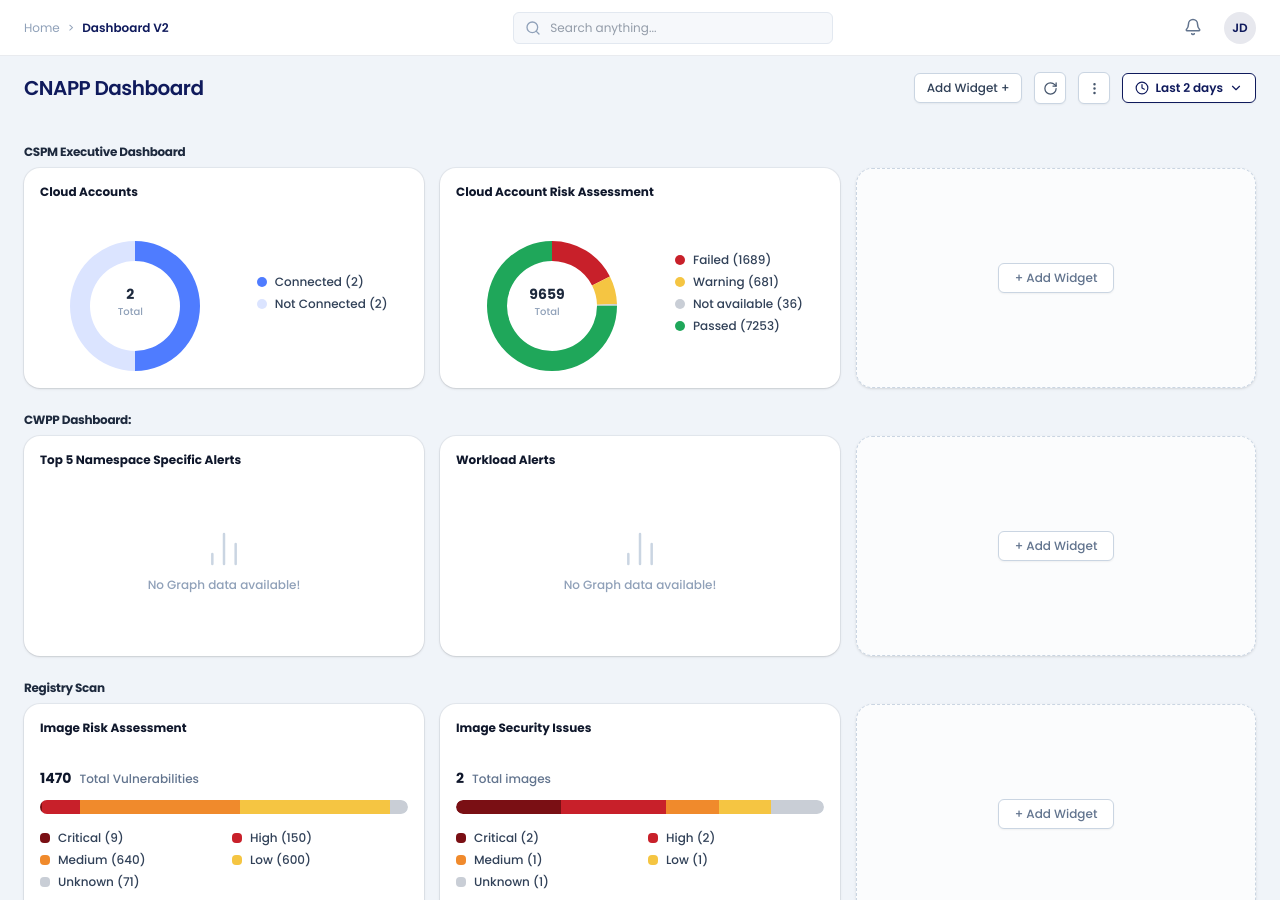
Drawer Search (Phase 8a) › unchecking from results then Confirm hides that widget on the dashboard
The width and height of the screenshot is (1280, 900).
Click the button "Add Widget +" at (968, 88), box [914,73,1022,103]
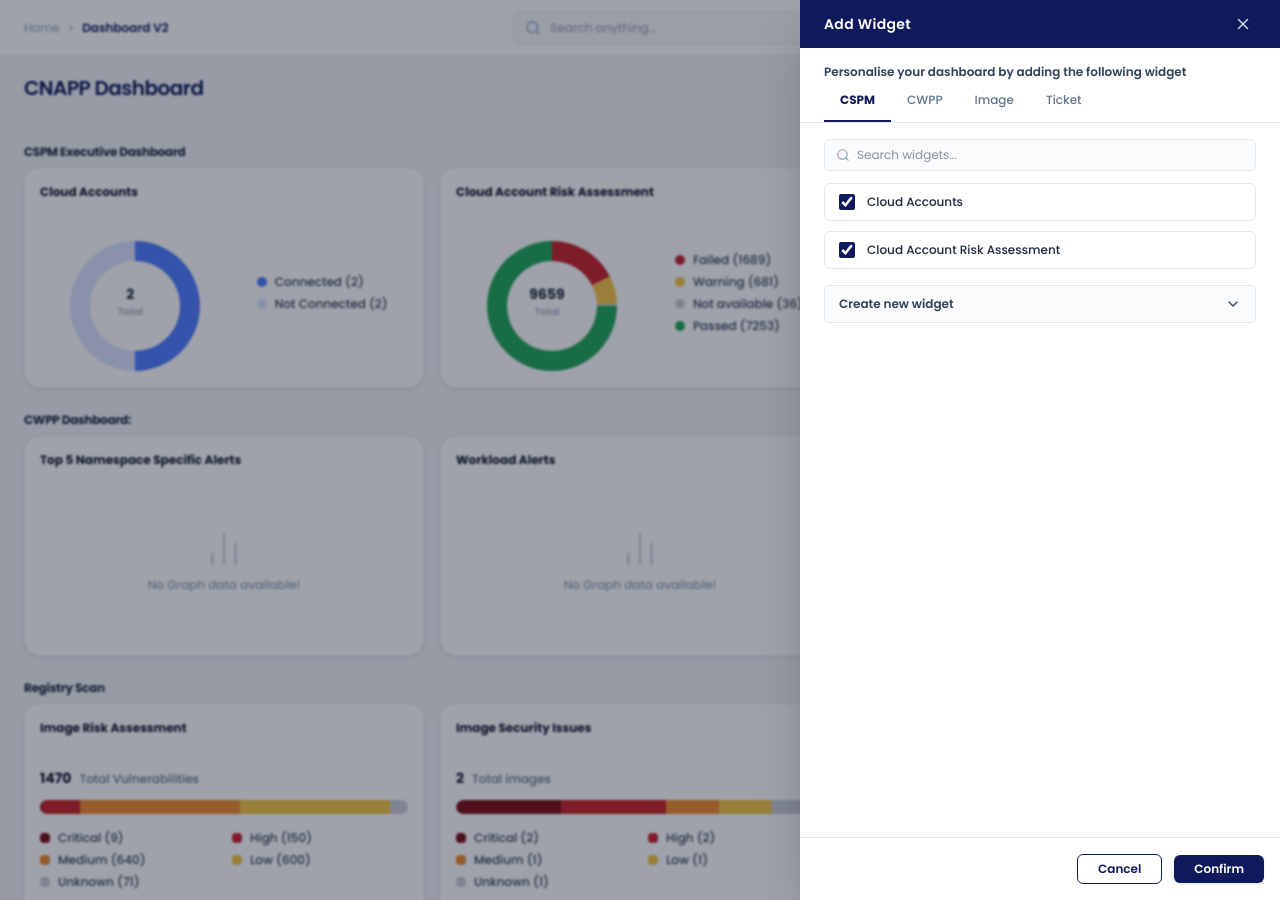
Type "Accounts" into the search field labelled "Search widgets" at (1040, 155), box [824,139,1256,171]
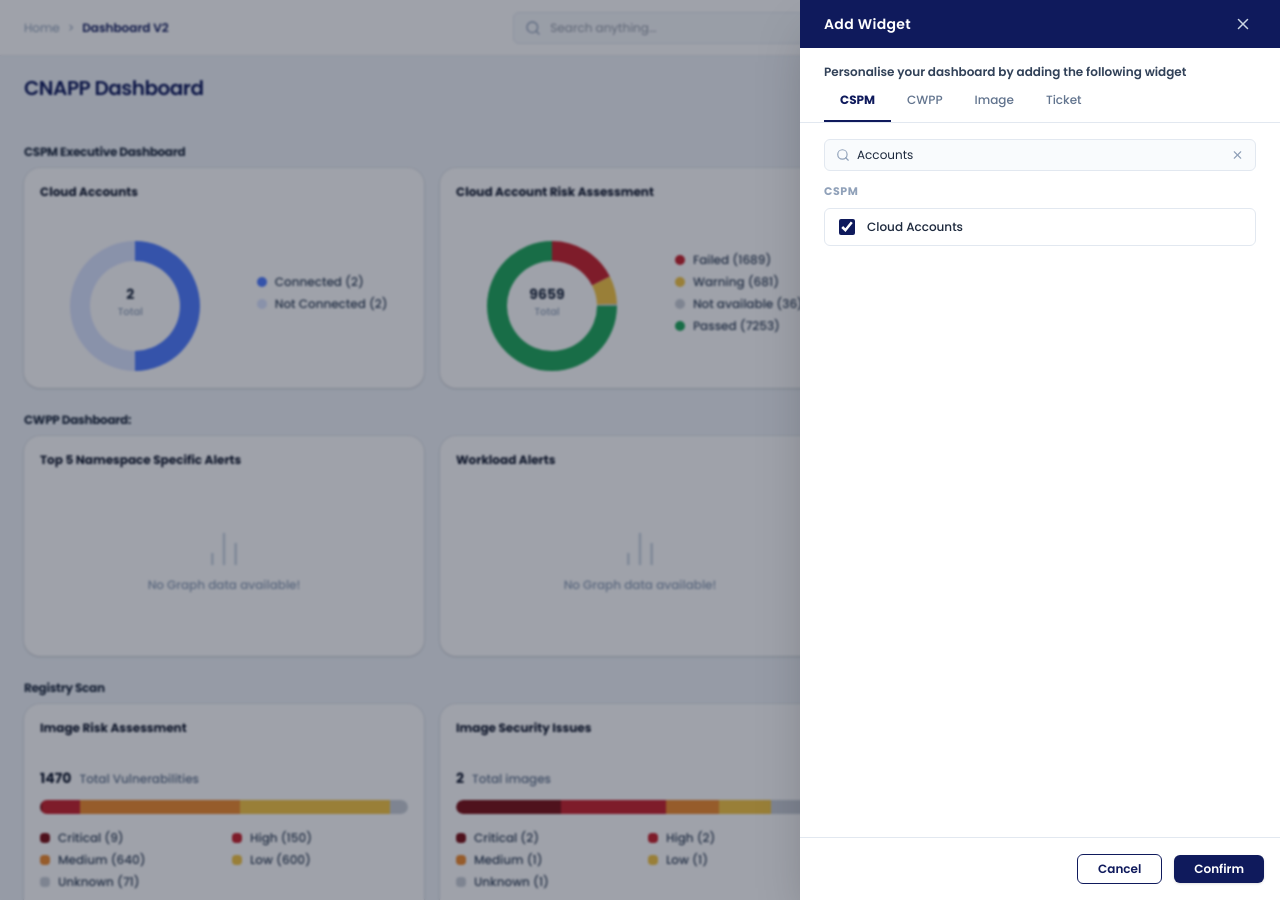
Expected: the checkbox labelled "Cloud Accounts" is checked
Click the checkbox labelled "Cloud Accounts" at (847, 226), box [839,218,855,234]
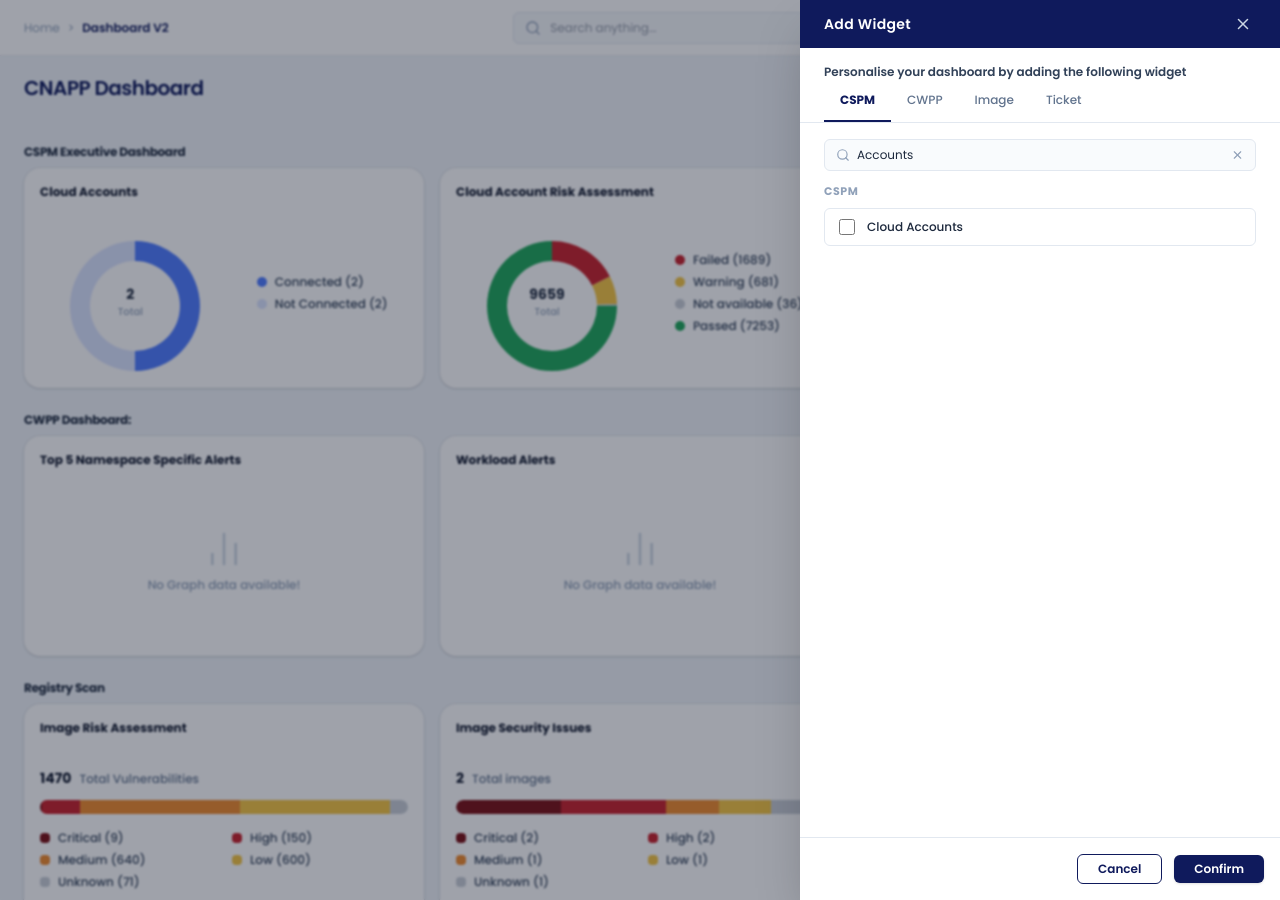
Expected: the checkbox labelled "Cloud Accounts" is not checked, [839,218,855,234]
Click the button "Confirm" at (1219, 869), box [1174,855,1264,883]
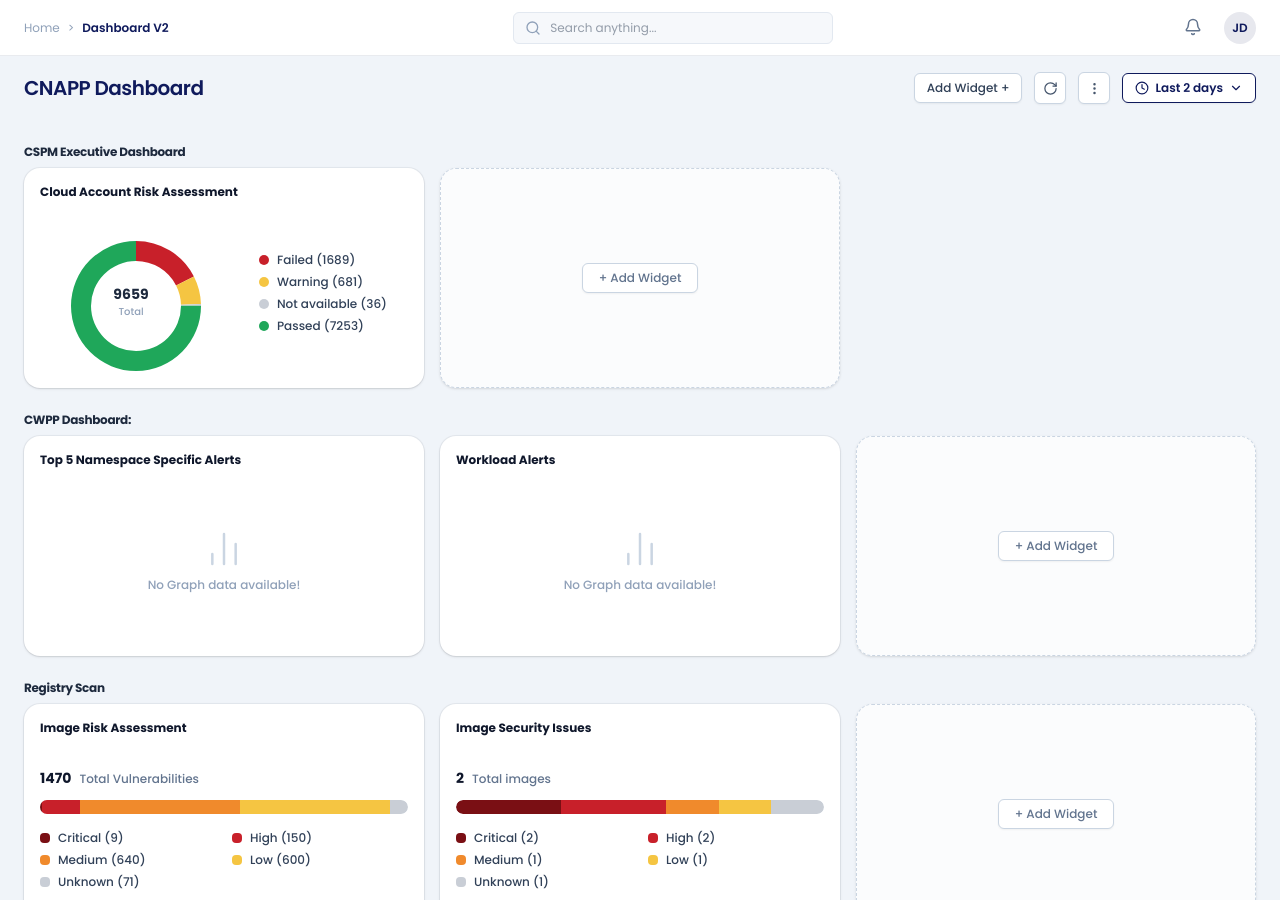
Expected: the heading "Cloud Accounts" is gone
